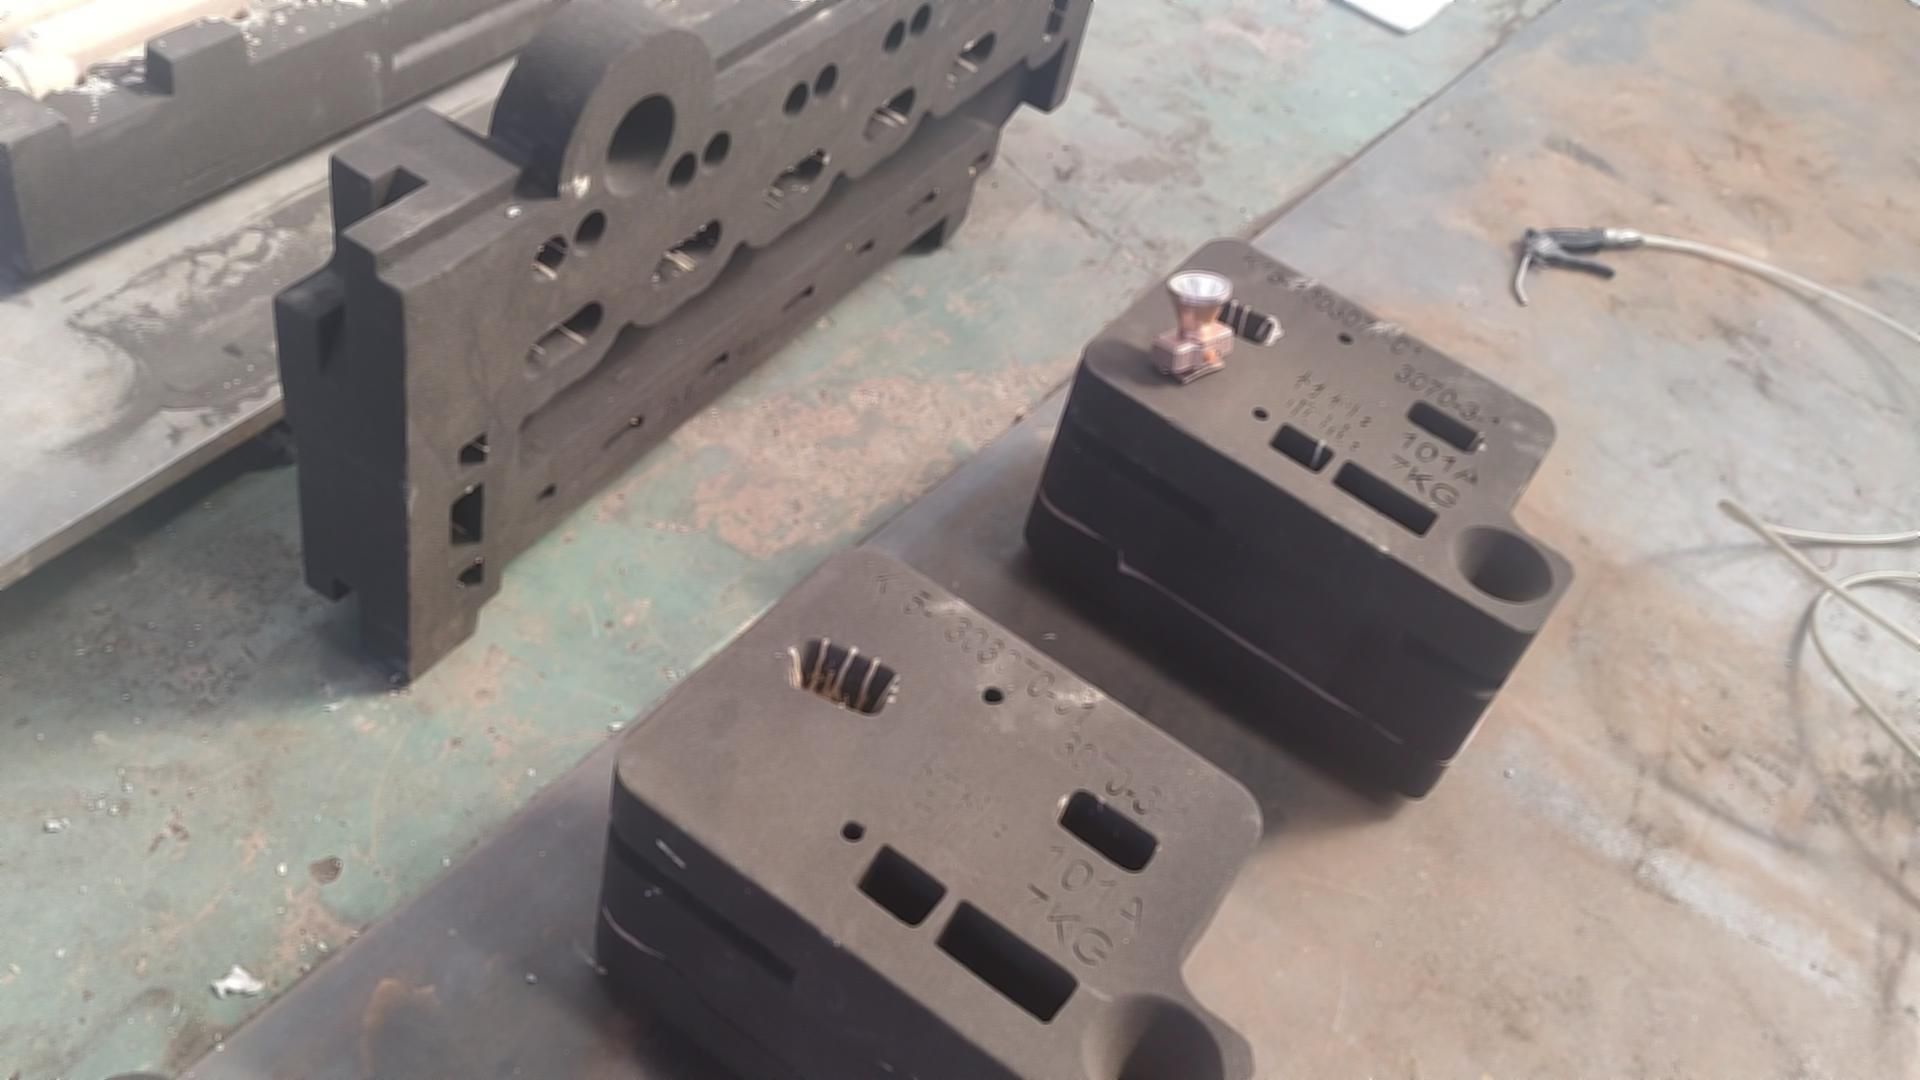pouring hole: (1077, 989, 1228, 1080), (1452, 521, 1555, 603), (603, 88, 676, 196)
